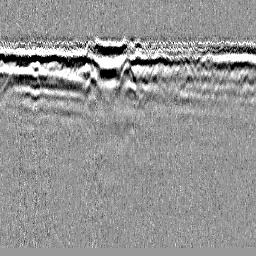cavity: (118, 58, 136, 87)
